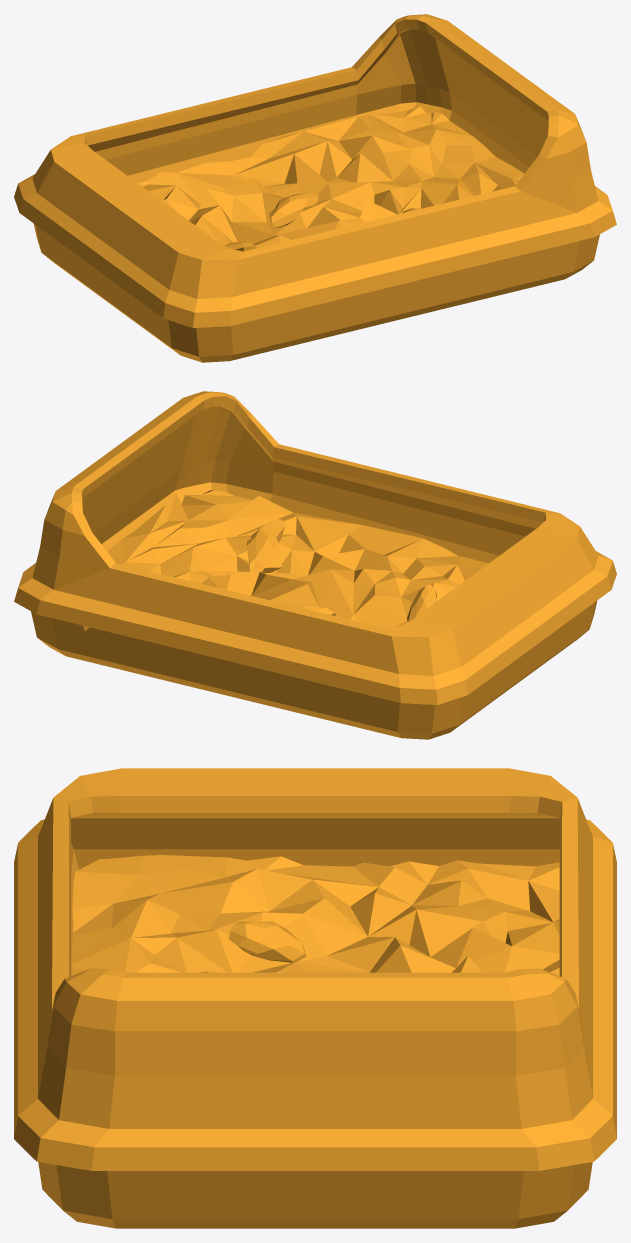
The model's file is SM_Cat_Toilet_Dirty.fbx.
The picture shows the model from 3 angles, top to bottom: view 1: azimuth 30°, elevation 25°; view 2: azimuth 150°, elevation 25°; view 3: azimuth 270°, elevation 25°; orthographic projection. The views are drawn at different scales.
Parts seen in each view (by area): view 1: Cat_Toilet_Dirty; view 2: Cat_Toilet_Dirty; view 3: Cat_Toilet_Dirty.
Boxes of the visible parts, x1,y1,x2,y2 form: Cat_Toilet_Dirty: (14, 14, 616, 362); Cat_Toilet_Dirty: (14, 391, 616, 739); Cat_Toilet_Dirty: (14, 768, 616, 1228).
Bounding box in the file's own units: 0.5965 × 0.1933 × 0.4462.
